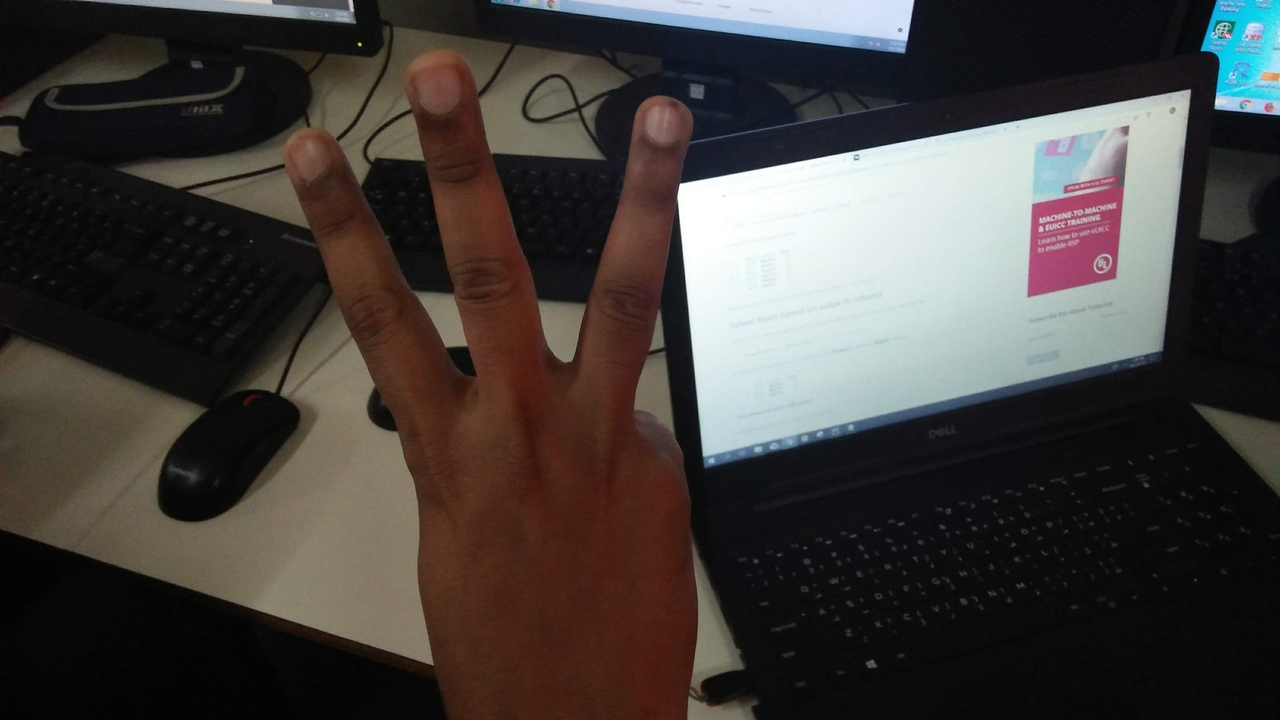fingertip: (394, 52, 480, 116), (270, 120, 346, 184), (628, 90, 698, 158)
